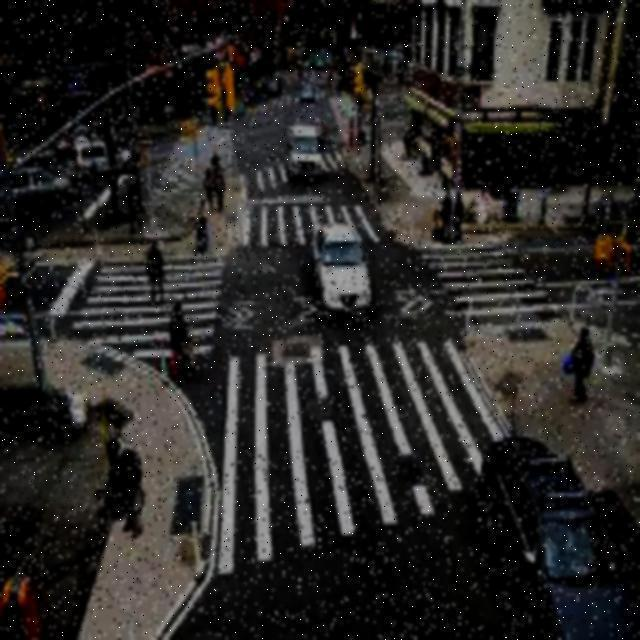crosswalk: (219, 337, 502, 578), (76, 258, 224, 360), (424, 247, 562, 333), (244, 201, 392, 251)
